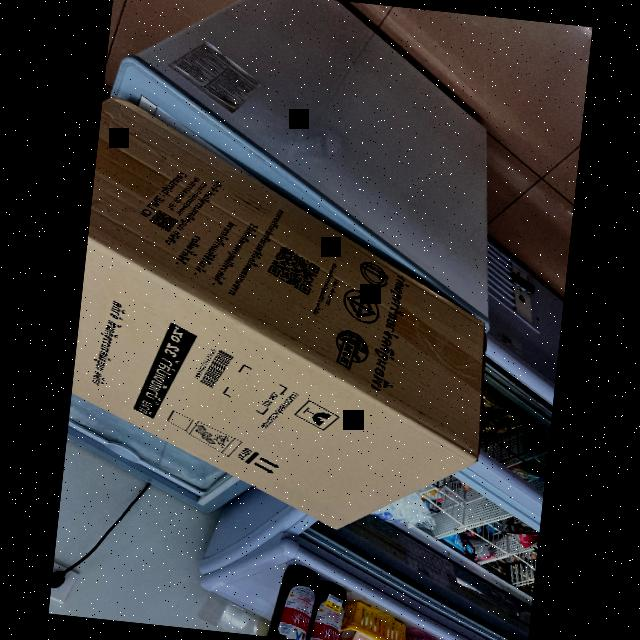cardboard_box: (60, 84, 523, 546)
